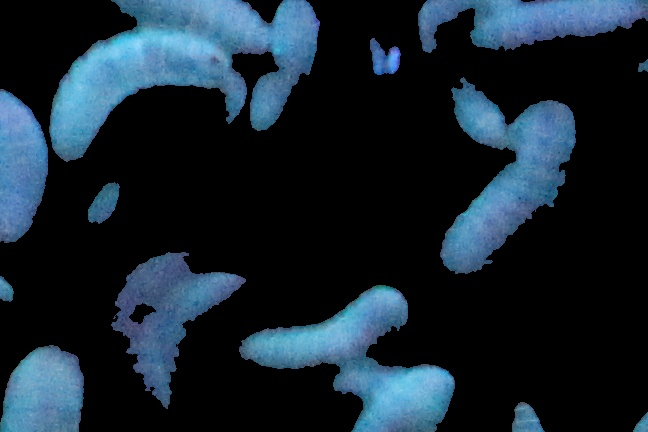larvae: (51, 28, 236, 162), (440, 100, 576, 274), (227, 284, 411, 373), (102, 251, 194, 426), (154, 271, 251, 428), (467, 1, 648, 53), (254, 1, 316, 133), (108, 1, 269, 51), (3, 342, 90, 432), (1, 93, 49, 242)
